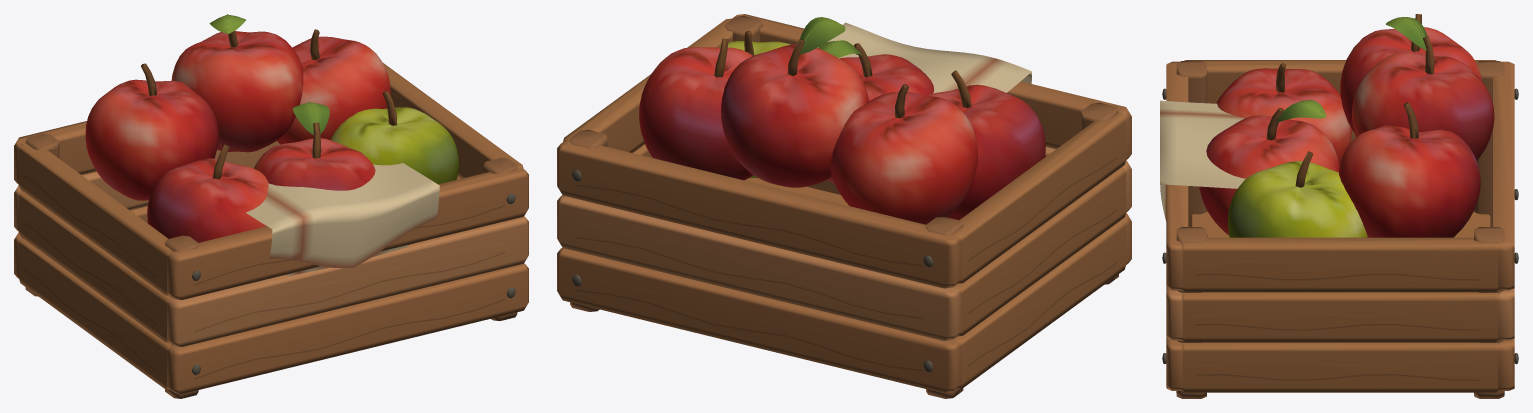
File: apple_crate.glb
The picture shows the model from 3 angles, left to right: view 1: azimuth 30°, elevation 25°; view 2: azimuth 150°, elevation 25°; view 3: azimuth 270°, elevation 25°; orthographic projection. The views are drawn at different scales.
Parts seen in each view (by area): view 1: Plant; view 2: Plant; view 3: Plant.
Part boxes in pixels (bbox=[...]): Plant: bbox=[14, 14, 528, 398]; Plant: bbox=[557, 14, 1131, 398]; Plant: bbox=[1160, 14, 1518, 398].
Size of the model in its own units: 0.7034 by 0.501 by 0.5714.
